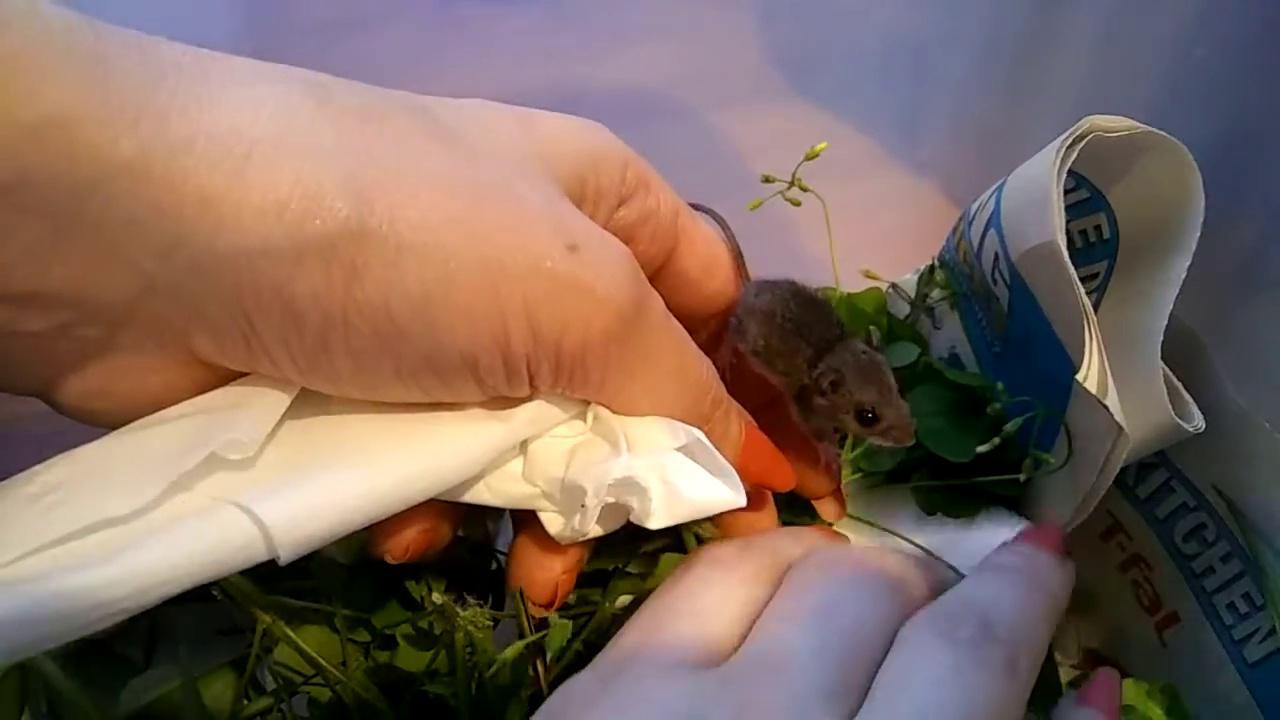rat: (686, 197, 923, 445)
